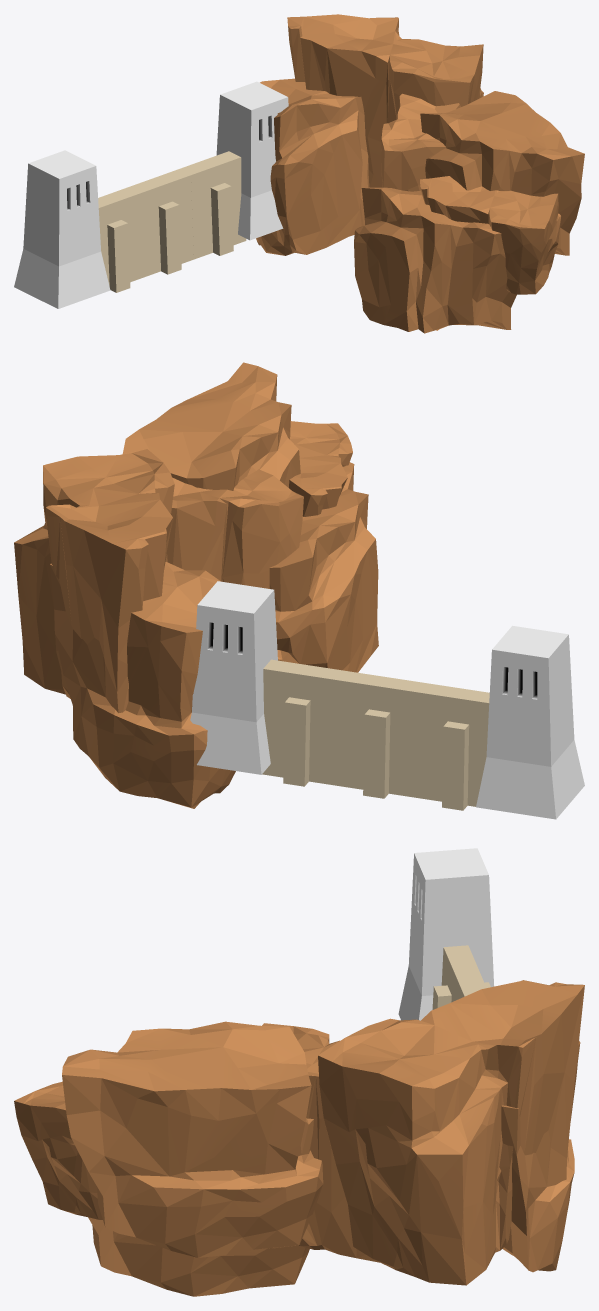
Rendered from enviornmentSet06.fbx.
The picture shows the model from 3 angles, top to bottom: view 1: azimuth 30°, elevation 25°; view 2: azimuth 150°, elevation 25°; view 3: azimuth 270°, elevation 25°; orthographic projection. The views are drawn at different scales.
Parts seen in each view (by area): view 1: rock0 (2), rock1, rock0, rock0 (1), tower, rock1 (2), tower (1), wall (1), wall (2), rock1 (1), wall; view 2: rock1, rock0, tower, rock0 (2), rock0 (1), tower (1), rock1 (1), wall (1), wall (2), wall, rock1 (2); view 3: rock1, rock0 (1), tower, rock0 (2), rock0, rock1 (2), rock1 (1), wall.
Part boxes in pixels (bbox=[...]): rock0 (2): bbox=[354, 187, 516, 333]; rock1: bbox=[287, 14, 483, 187]; rock0: bbox=[256, 78, 369, 255]; rock0 (1): bbox=[420, 91, 584, 255]; tower: bbox=[14, 150, 110, 308]; rock1 (2): bbox=[420, 176, 560, 294]; tower (1): bbox=[216, 81, 288, 240]; wall (1): bbox=[127, 169, 193, 277]; wall (2): bbox=[179, 151, 246, 259]; rock1 (1): bbox=[381, 93, 460, 191]; wall: bbox=[98, 188, 142, 292]; rock1: bbox=[14, 449, 174, 713]; rock0: bbox=[50, 562, 235, 808]; tower: bbox=[476, 625, 584, 819]; rock0 (2): bbox=[269, 462, 378, 672]; rock0 (1): bbox=[122, 362, 300, 490]; tower (1): bbox=[190, 581, 277, 774]; rock1 (1): bbox=[165, 469, 303, 588]; wall (1): bbox=[338, 671, 427, 798]; wall (2): bbox=[262, 659, 347, 786]; wall: bbox=[418, 683, 489, 810]; rock1 (2): bbox=[289, 421, 352, 516]; rock1: bbox=[318, 980, 584, 1285]; rock0 (1): bbox=[62, 1021, 323, 1257]; tower: bbox=[398, 848, 494, 1020]; rock0 (2): bbox=[88, 1217, 309, 1296]; rock0: bbox=[501, 1040, 580, 1272]; rock1 (2): bbox=[14, 1081, 102, 1219]; rock1 (1): bbox=[262, 1023, 379, 1262]; wall: bbox=[432, 945, 490, 1009].
Size of the model in its own units: 13.04 by 5.92 by 10.85.
